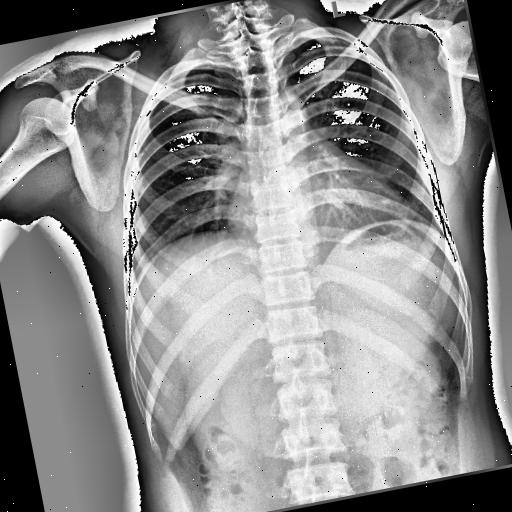3- Cardiomegaly: (220, 156, 410, 258), (221, 168, 415, 260), (219, 163, 408, 255)
